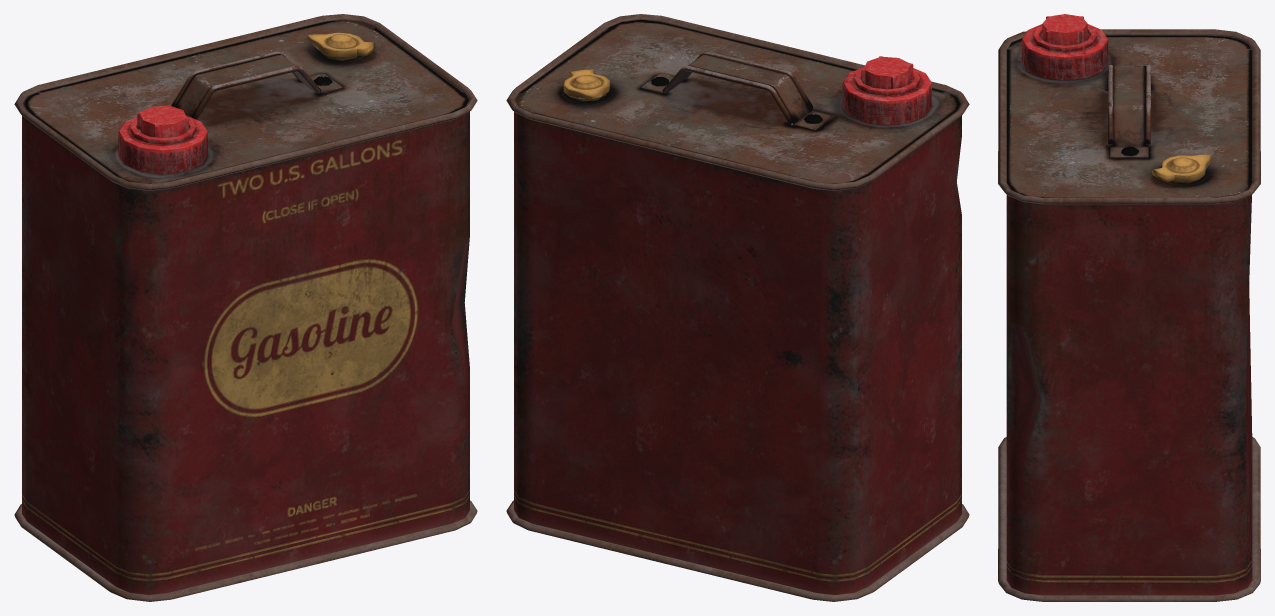
The model's file is gasoline_can.glb.
3 views of the same model, side by side, from view 1: azimuth 30°, elevation 25°; view 2: azimuth 150°, elevation 25°; view 3: azimuth 270°, elevation 25° (orthographic). The views are drawn at different scales.
Visible parts, largest first — view 1: Object_2; view 2: Object_2; view 3: Object_2.
Part boxes in pixels (x1,y1,x2,y2): Object_2: (14, 14, 477, 601); Object_2: (506, 14, 969, 601); Object_2: (998, 14, 1260, 601).
Bounding box in the file's own units: 2.91 × 3.49 × 1.9.
1 material, 1 textured.
